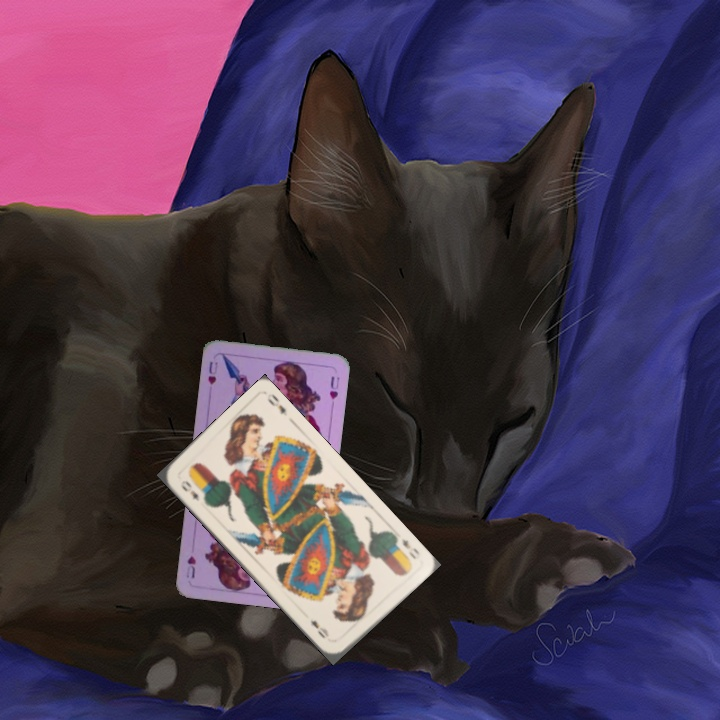EO: (176, 476, 202, 504), (397, 534, 423, 562)
HU: (204, 358, 220, 387)
